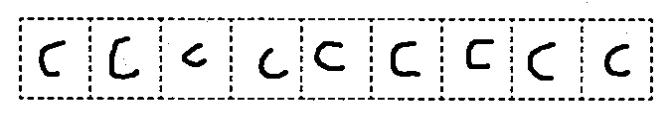C: (104, 33, 148, 82), (385, 36, 428, 82), (455, 33, 501, 75), (34, 34, 74, 82), (522, 40, 564, 83), (601, 39, 640, 84), (308, 38, 350, 78), (252, 44, 293, 84), (173, 36, 213, 73)
